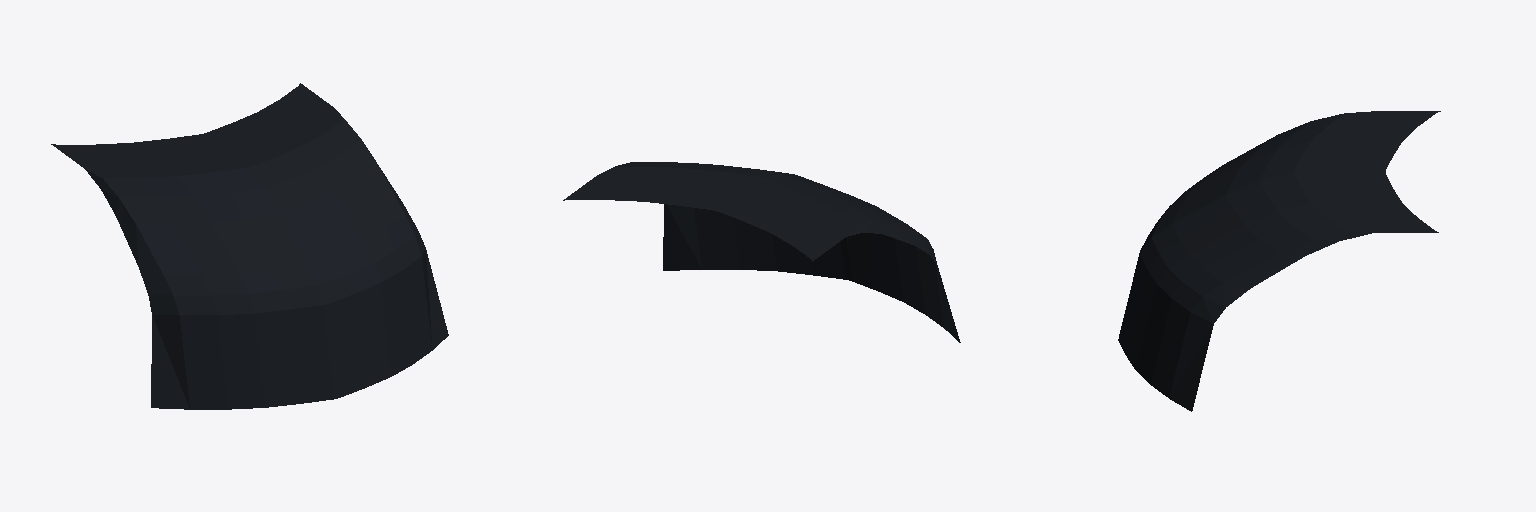
The model's file is windshield.obj.
3 renders of one model, left to right at view 1: azimuth 30°, elevation 25°; view 2: azimuth 150°, elevation 25°; view 3: azimuth 270°, elevation 25°, orthographic.
Parts seen in each view (by area): view 1: group_3_ID344, group_0_ID3; view 2: group_3_ID344, group_0_ID3; view 3: group_0_ID3, group_3_ID344.
Part boxes in pixels (bbox=[...]): group_3_ID344: bbox=[51, 134, 336, 409]; group_0_ID3: bbox=[204, 83, 448, 398]; group_3_ID344: bbox=[716, 173, 960, 342]; group_0_ID3: bbox=[563, 162, 848, 279]; group_0_ID3: bbox=[1118, 172, 1438, 411]; group_3_ID344: bbox=[1119, 111, 1440, 334].
Bounding box in the file's own units: 1.14 × 0.61 × 1.07.